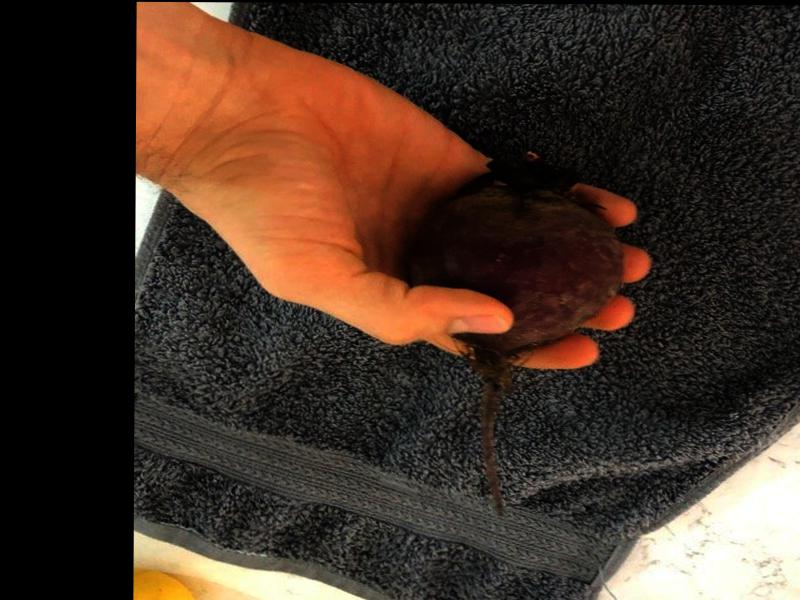Beet: (405, 159, 626, 515)
